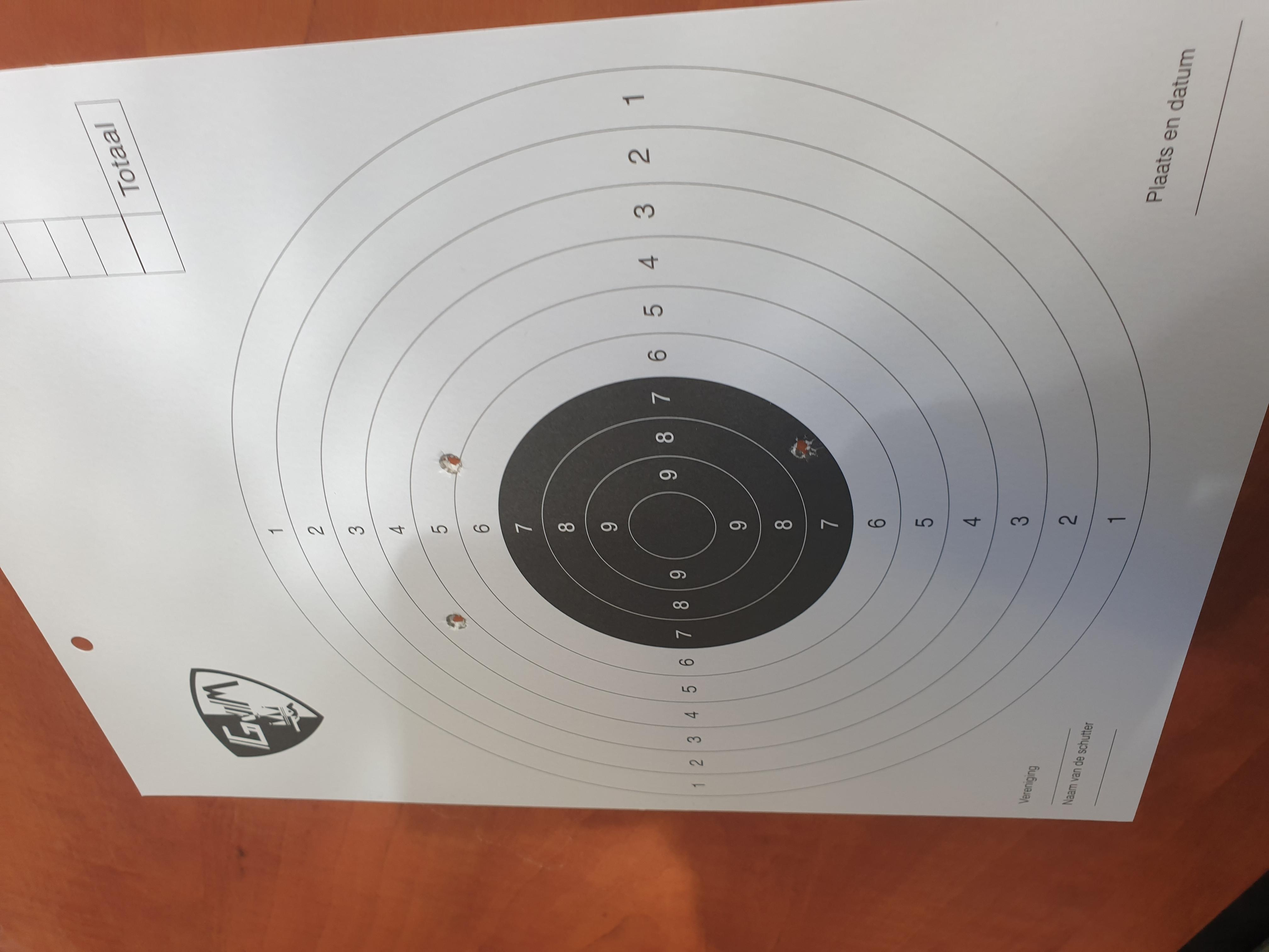hole: (448, 487, 483, 521), (804, 472, 835, 503), (800, 320, 825, 340)
